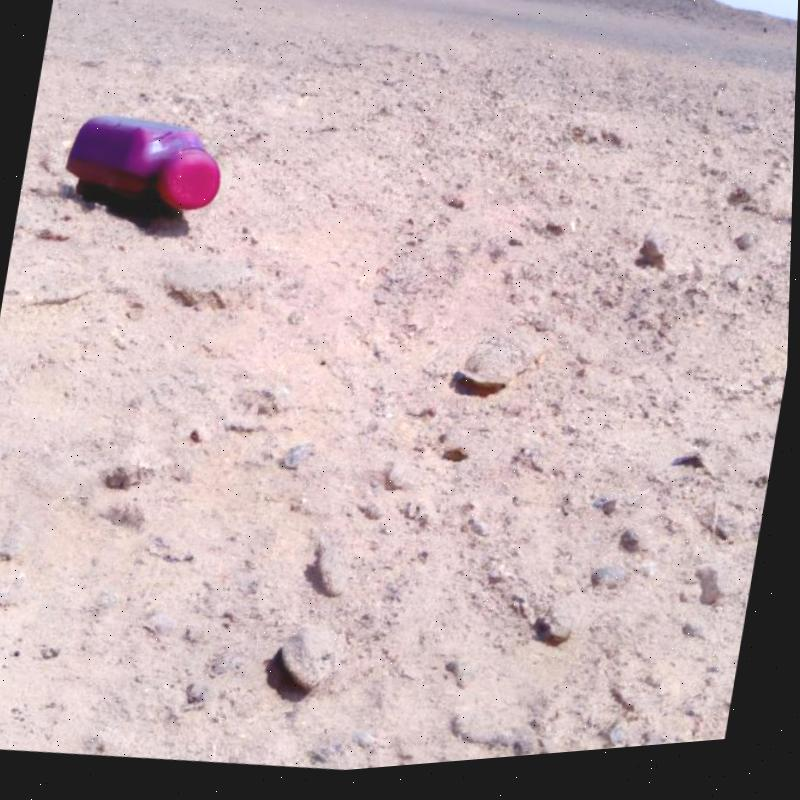botella: (57, 103, 232, 239)
